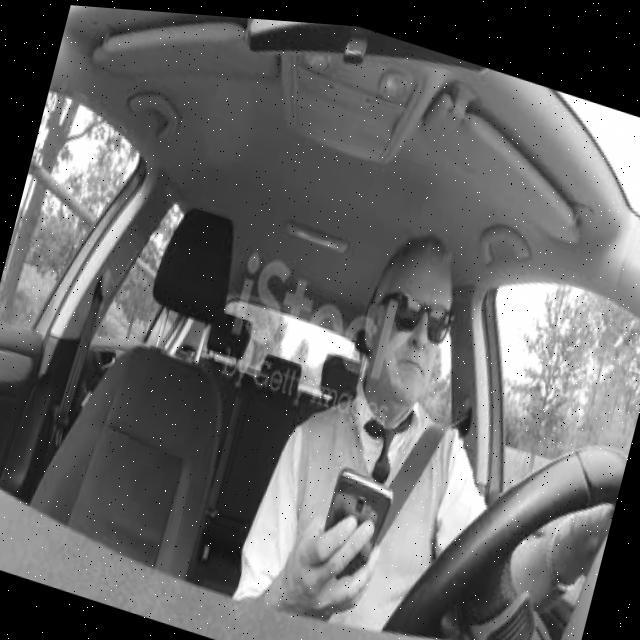PhoneCall: (308, 458, 396, 601)
